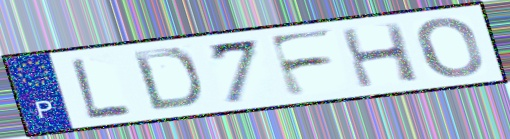7: (205, 38, 266, 105)
D: (128, 46, 203, 113)
F: (264, 27, 338, 100)
H: (336, 21, 423, 91)
L: (67, 56, 135, 120)
O: (414, 15, 486, 80)
